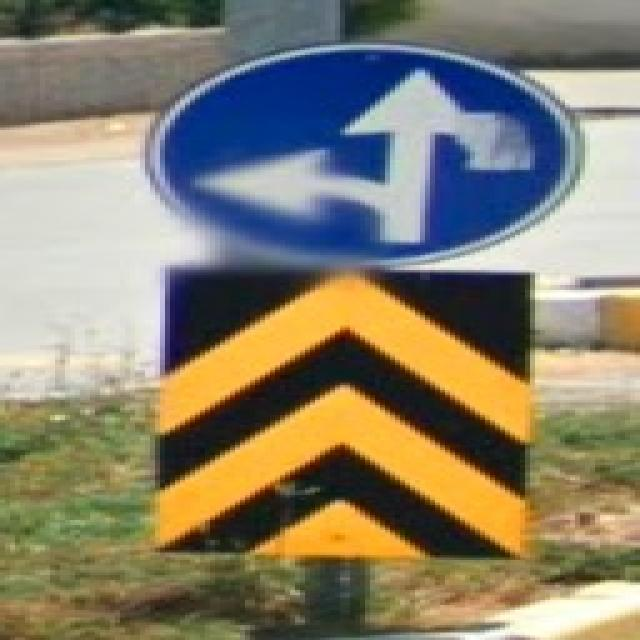Straight or Left: (149, 45, 589, 265)
